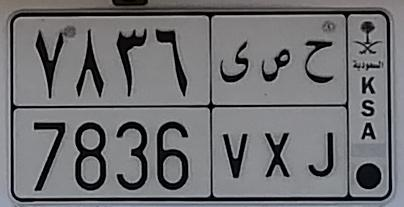3: (116, 27, 151, 191)
6: (154, 28, 190, 190)
7: (32, 29, 67, 191)
8: (73, 29, 108, 191)
J: (304, 39, 337, 178)
V: (219, 40, 253, 180)
X: (261, 47, 292, 178)
